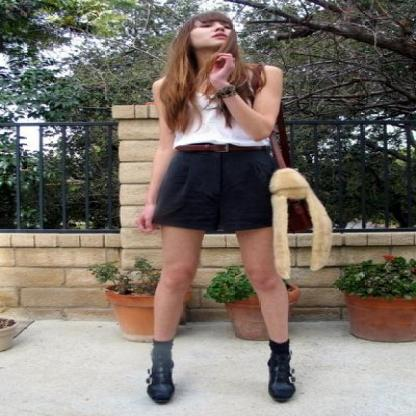shirt: (168, 88, 270, 148)
shoe: (147, 338, 294, 404)
skirt: (151, 142, 279, 233)
